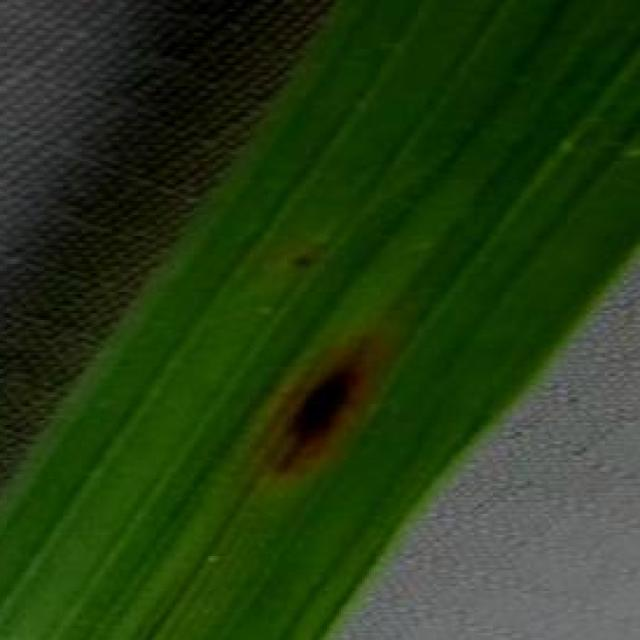Brown_Spot: (238, 325, 416, 500), (276, 250, 336, 285)
